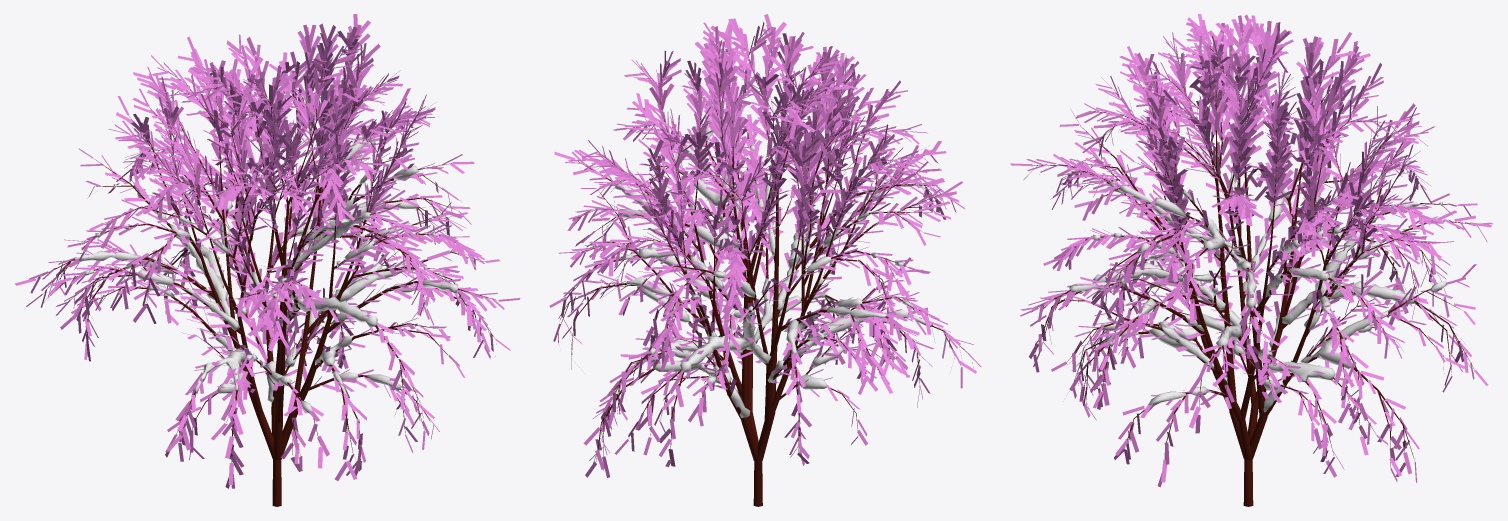
File: tree_big.glb
3 renders of one model, left to right at view 1: azimuth 30°, elevation 25°; view 2: azimuth 150°, elevation 25°; view 3: azimuth 270°, elevation 25°, orthographic. The views are drawn at different scales.
Parts seen in each view (by area): view 1: leaves, tree, SnowBall.001; view 2: leaves, tree, SnowBall.001; view 3: leaves, tree, SnowBall.001.
Boxes of the visible parts, x1,y1,x2,y2 form: leaves: (14,14,520,488); tree: (37,39,498,506); SnowBall.001: (74,135,469,413); leaves: (549,14,981,477); tree: (561,38,966,506); SnowBall.001: (591,115,932,417); leaves: (1010,14,1492,487); tree: (1031,34,1473,506); SnowBall.001: (1052,120,1446,412).
Bounding box in the file's own units: 8.96 × 9.33 × 8.55.
